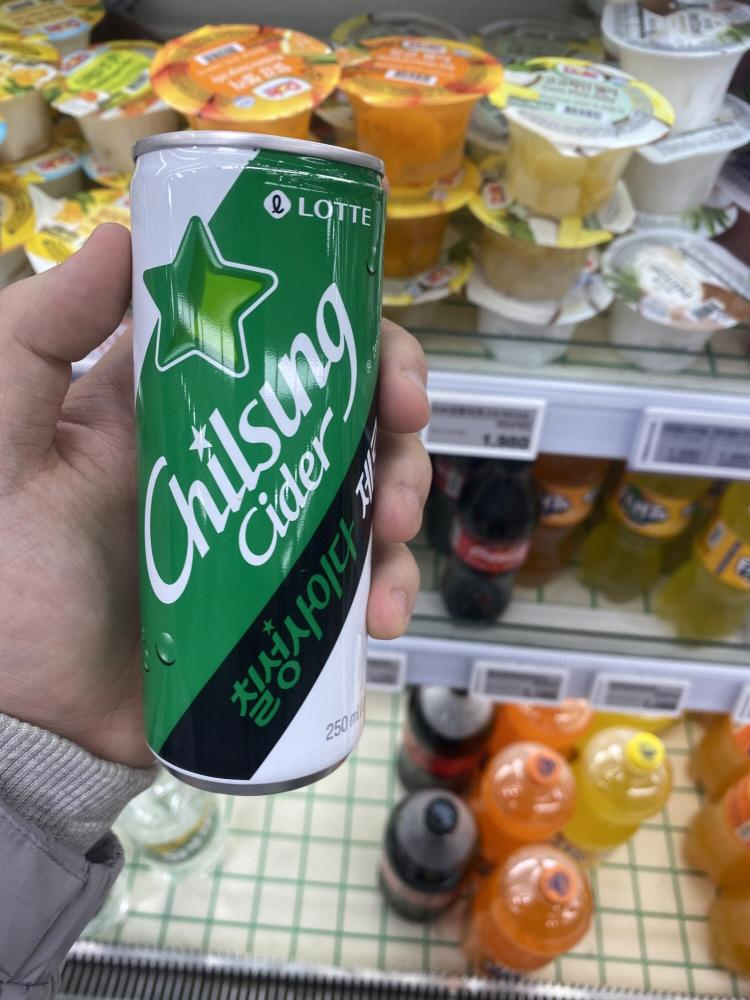chilsungcider_zero: (141, 98, 382, 808)
